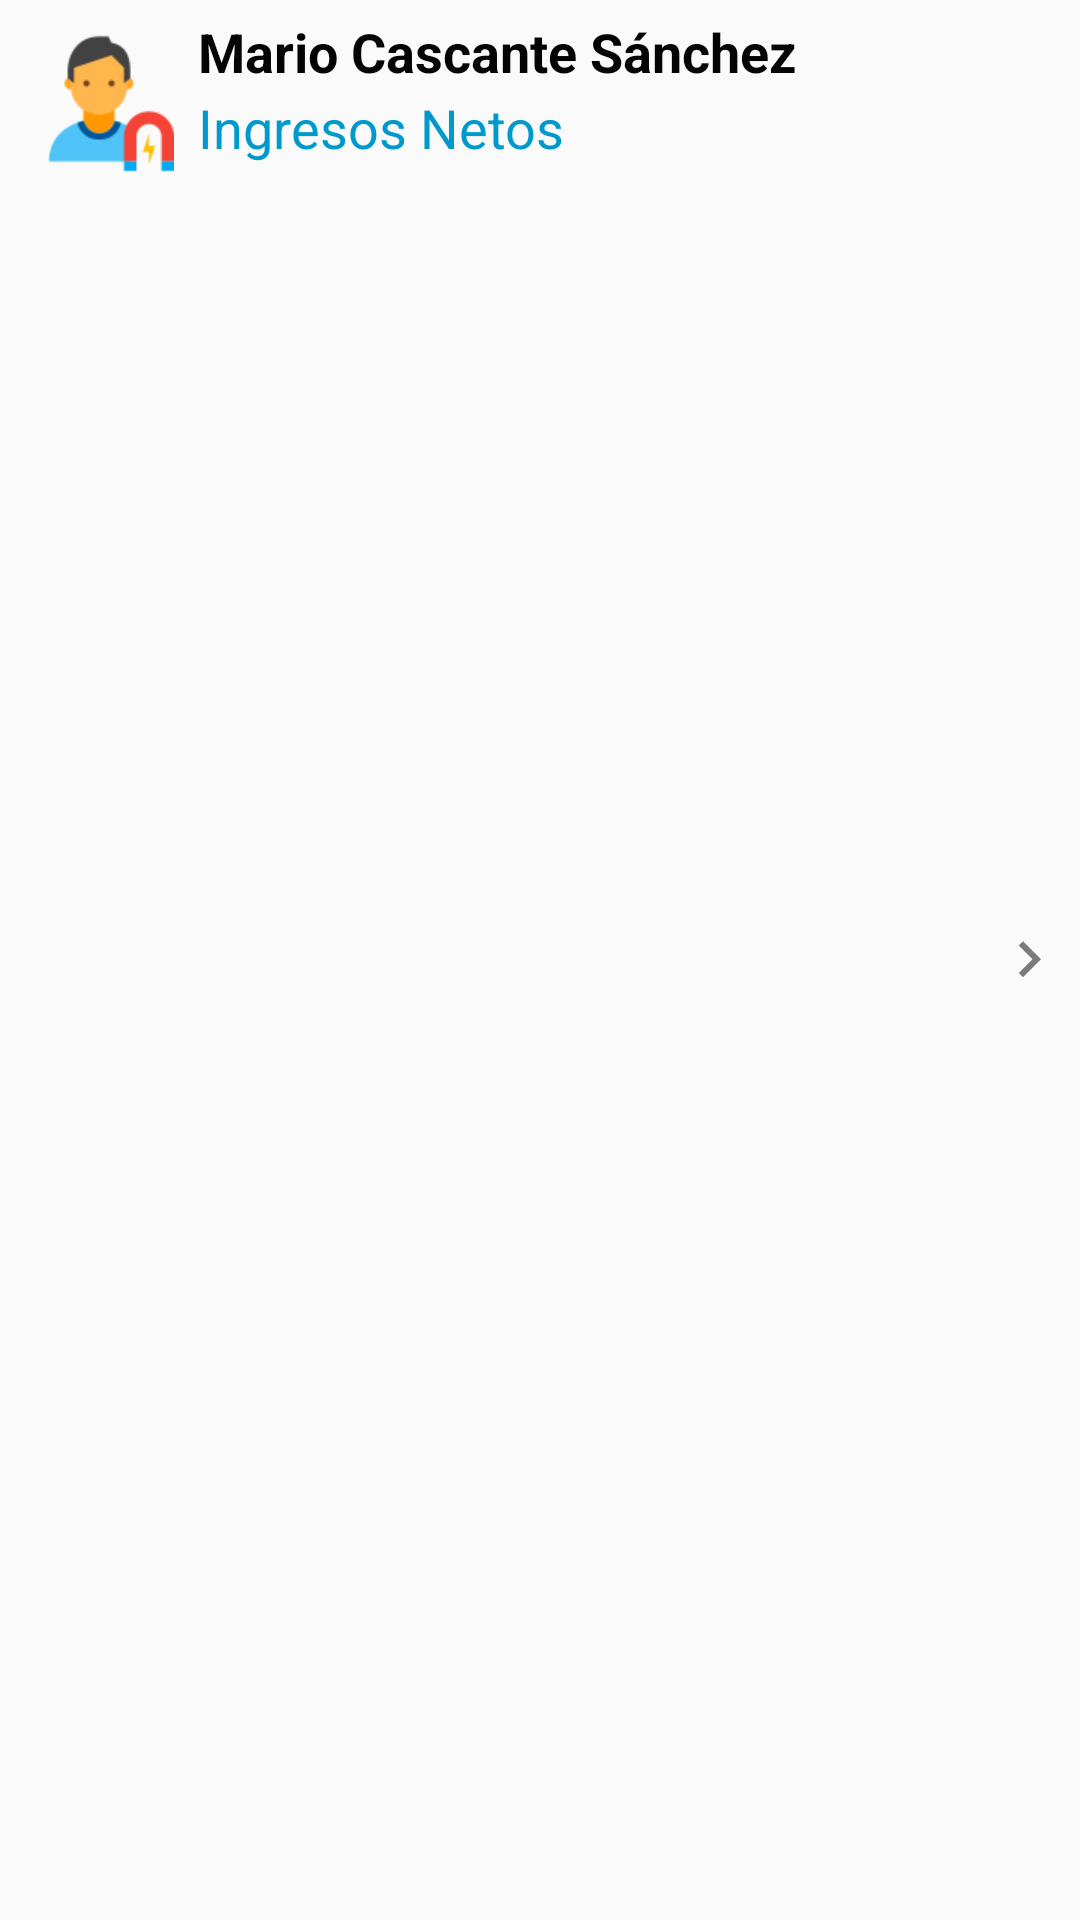

Icons on this 1080*1920 Android screen, each with the point to tap as (x,y):
arrow: (1030,959)
usuario: (111,104)
